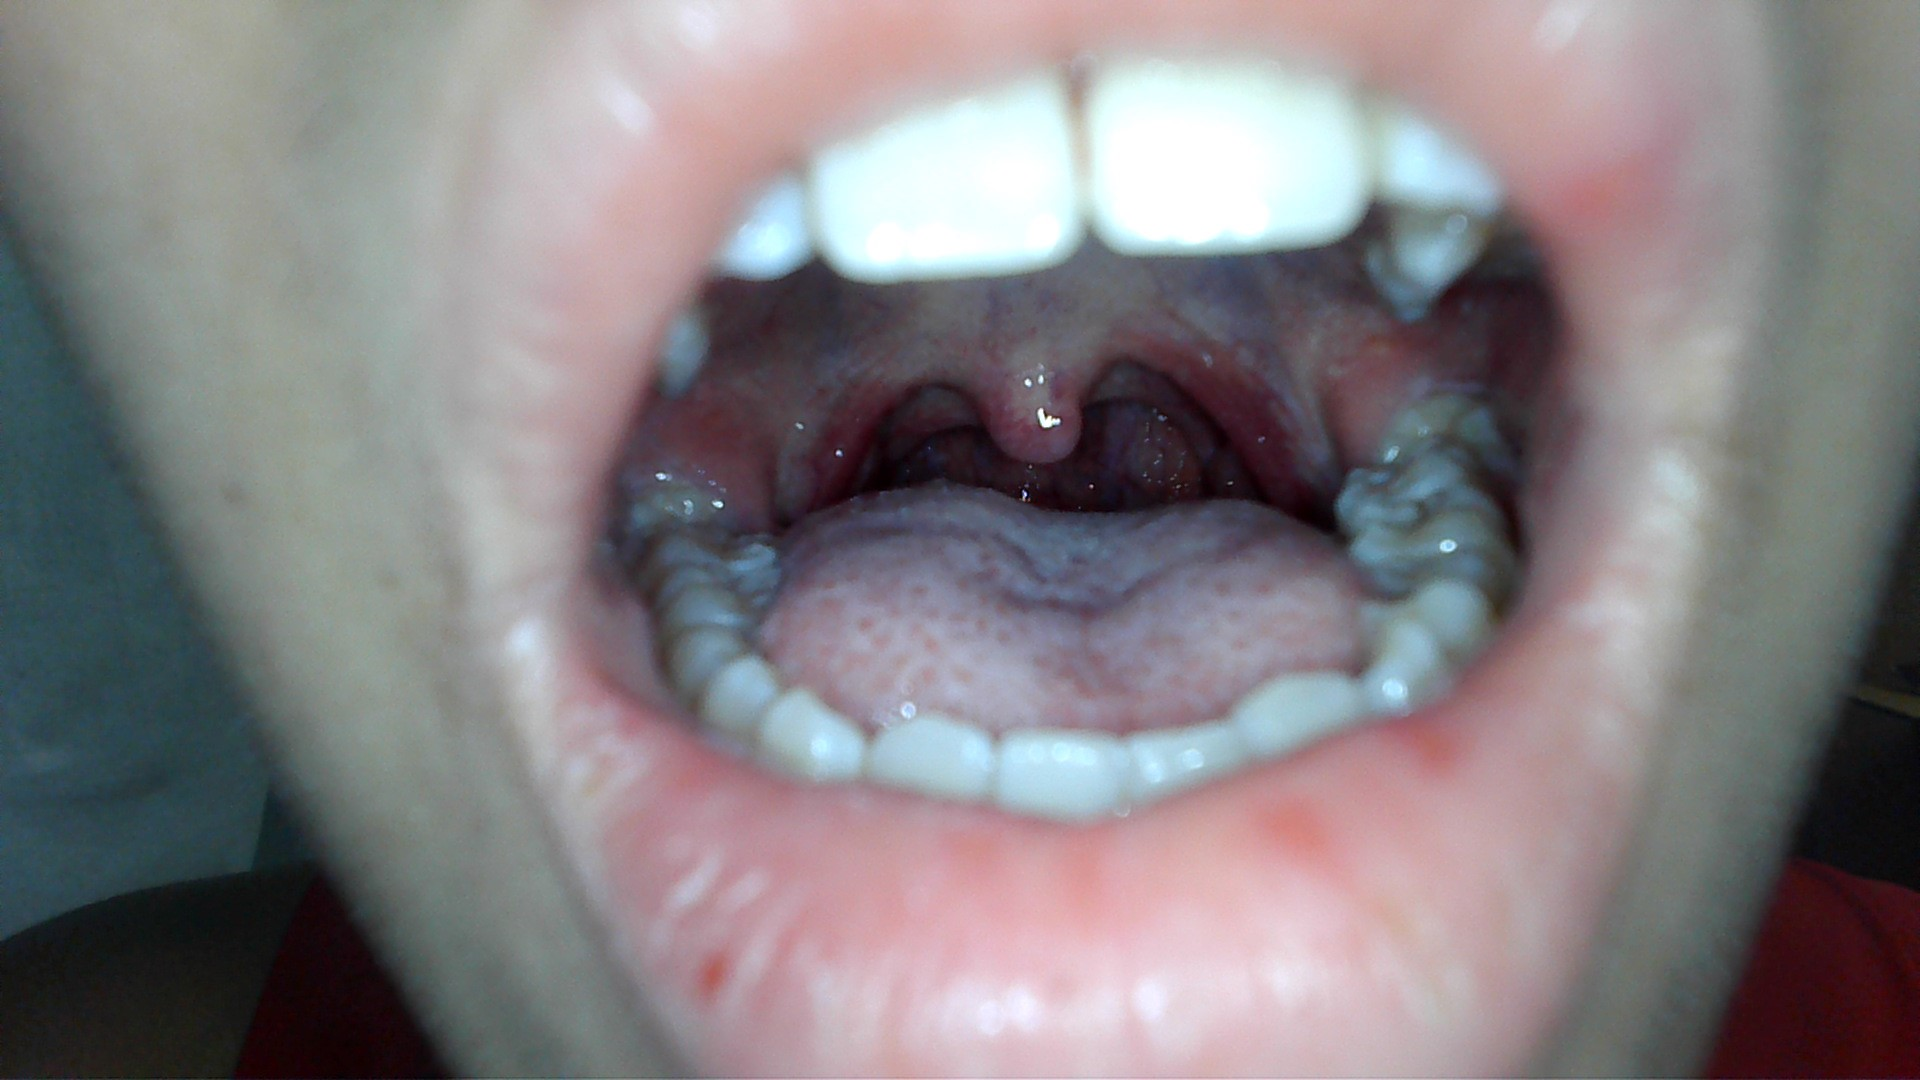throat: (1178, 324, 1313, 492), (782, 340, 902, 496)
